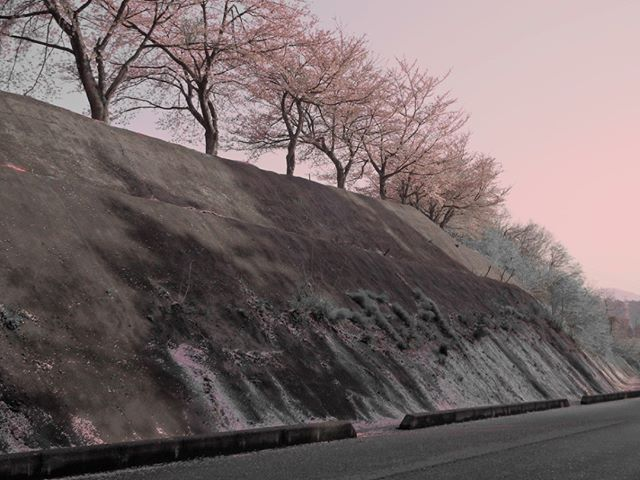street: (128, 415, 640, 480)
tree: (1, 1, 161, 132), (157, 14, 296, 160), (263, 8, 354, 185), (320, 35, 394, 193), (420, 122, 491, 244), (379, 65, 433, 200)
